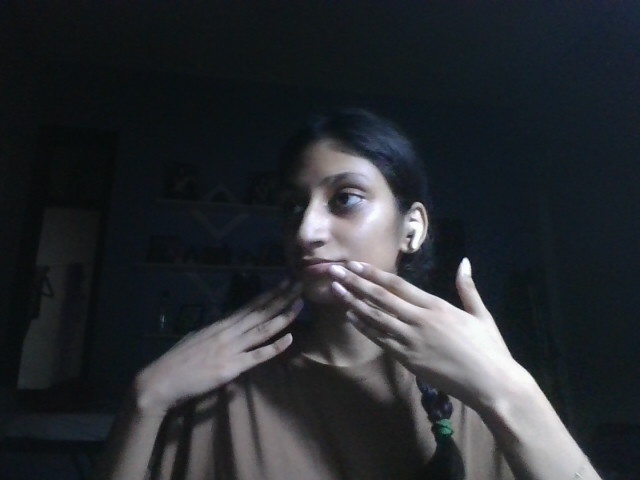thank you: (124, 258, 514, 428)
